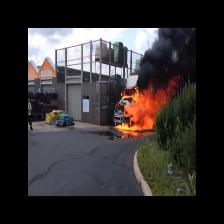fire: (127, 91, 160, 129)
smoke: (154, 28, 193, 82)
